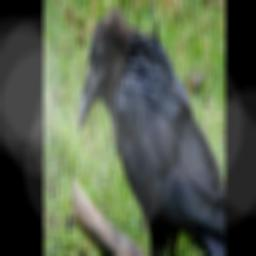Crow: (76, 7, 225, 256)
